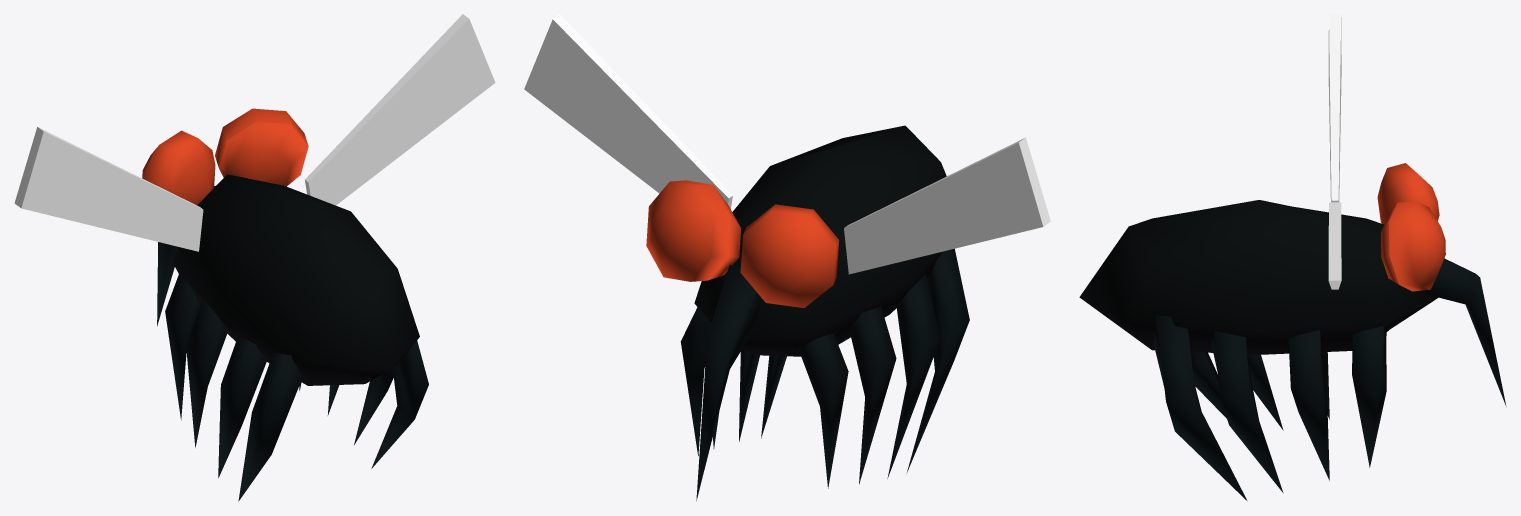
The model's file is Fly.glb.
The picture shows the model from 3 angles, left to right: view 1: azimuth 30°, elevation 25°; view 2: azimuth 150°, elevation 25°; view 3: azimuth 270°, elevation 25°; orthographic projection. The views are drawn at different scales.
Visible parts, largest first — view 1: fly; view 2: fly; view 3: fly.
Boxes of the visible parts, box(x1,y1,x2,y2) form: fly: box(14, 14, 495, 501); fly: box(524, 14, 1050, 500); fly: box(1079, 14, 1506, 500).
Size of the model in its own units: 4.62 by 3.59 by 3.81.
1 material, 1 textured.
